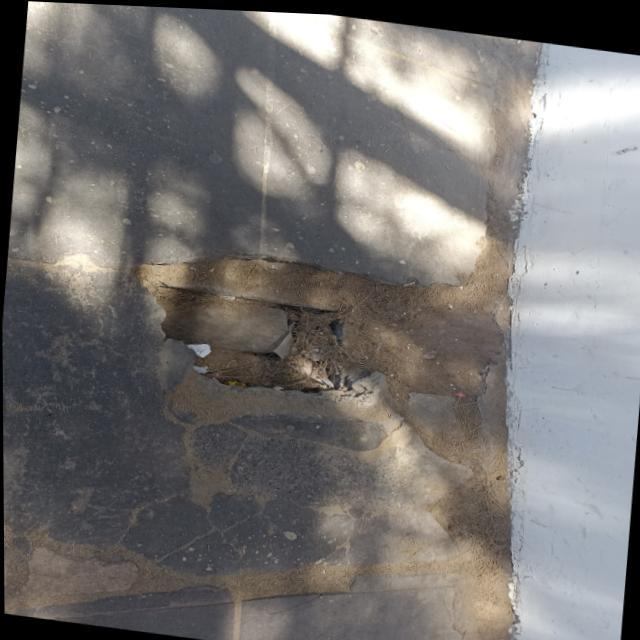hole: (125, 236, 391, 406)
